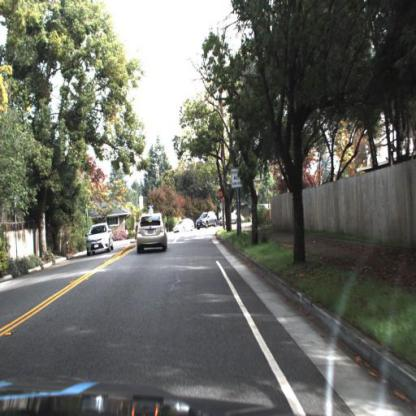car: (83, 219, 116, 257), (137, 212, 167, 253), (85, 222, 114, 257), (193, 212, 221, 233), (173, 217, 197, 236)
